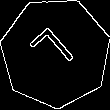L_SE: (28, 24, 83, 82)
